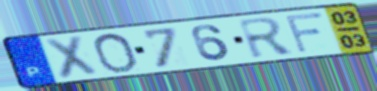6: (190, 24, 232, 62)
7: (142, 25, 182, 70)
F: (283, 10, 327, 55)
O: (91, 31, 140, 75)
R: (235, 16, 298, 61)
X: (42, 33, 102, 81)
